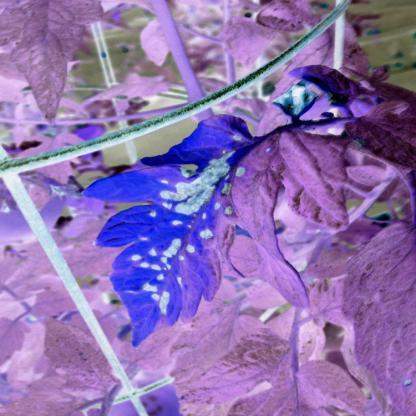Tomato leaf late blight: (144, 110, 416, 252)
